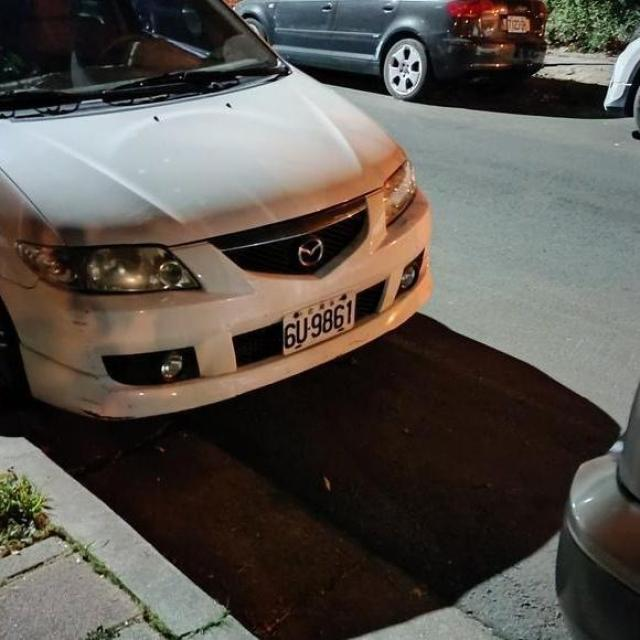W: (270, 277, 368, 359)
